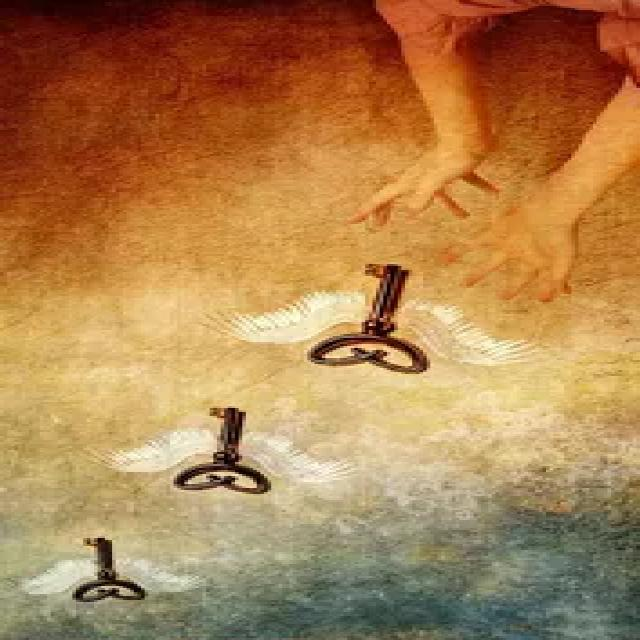key: (293, 258, 442, 382), (161, 401, 294, 504), (62, 524, 160, 610)
